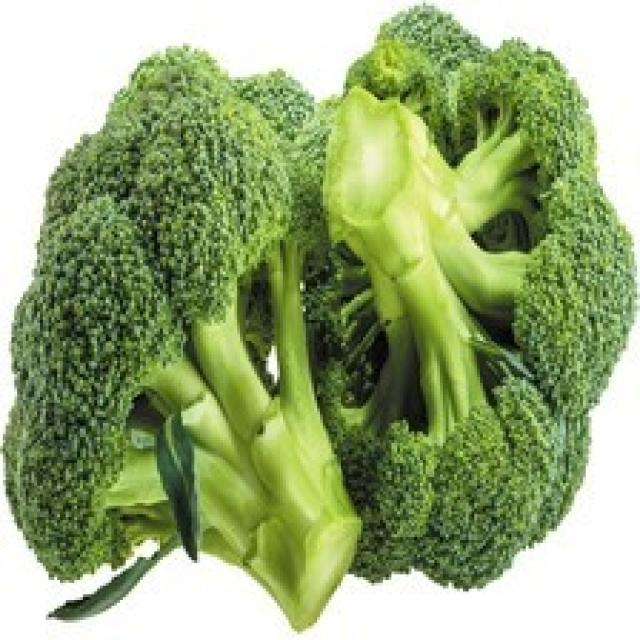Broccoli: (4, 6, 632, 628), (4, 6, 631, 628), (8, 48, 281, 578)
